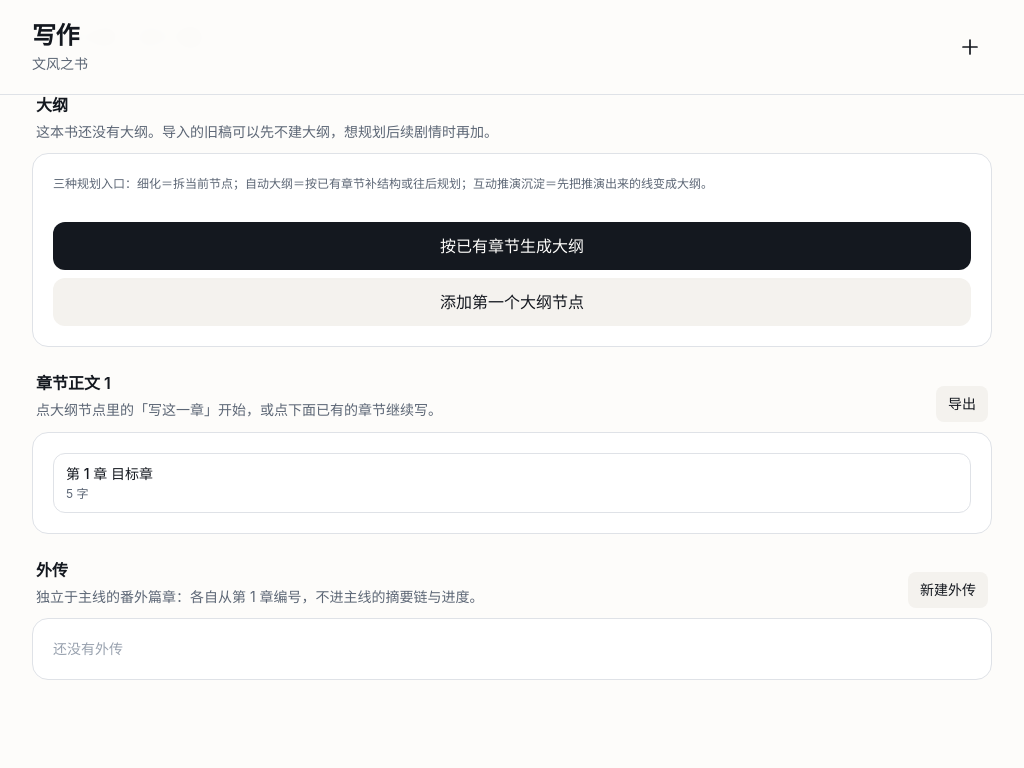
Test case: M4-S2 · 编辑器 UI › schema 失败显示 role=alert + 重试；重试成功后出结果
(page scrolled)
Click the button with aria-label "继续写第 1 章". click: (130, 473)
box: [53,452,971,512]
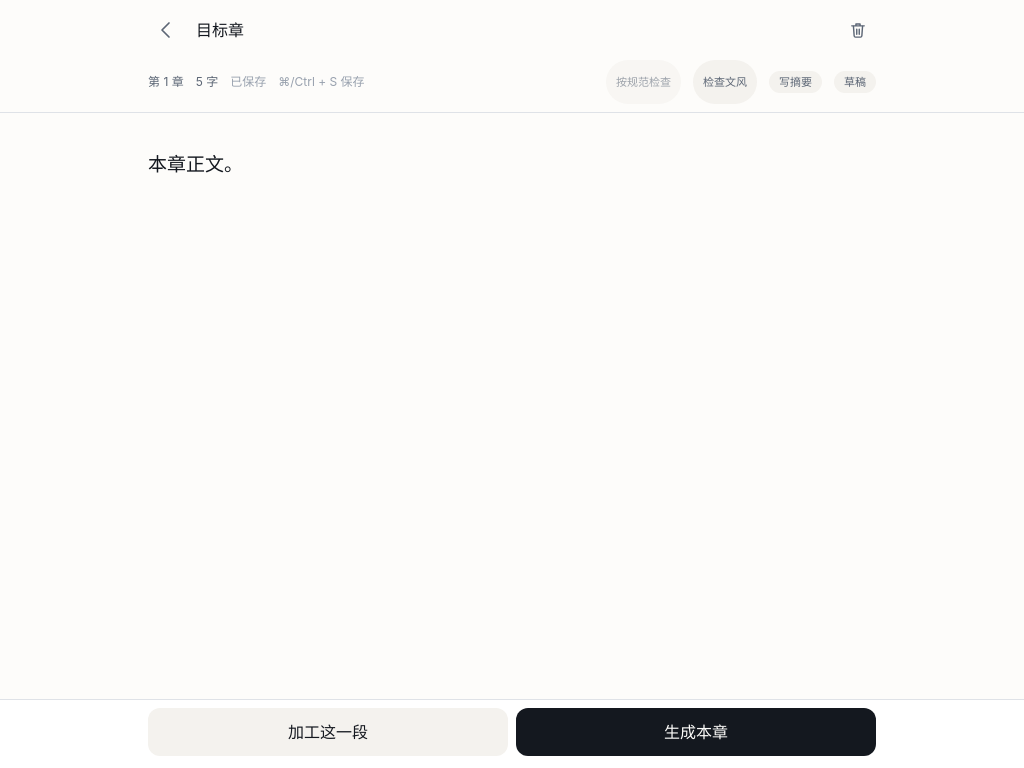
Result: the text box named "章节正文" is shown at [144,113,880,699]
Click the button "检查文风". click: (725, 82)
box: [693,60,757,104]
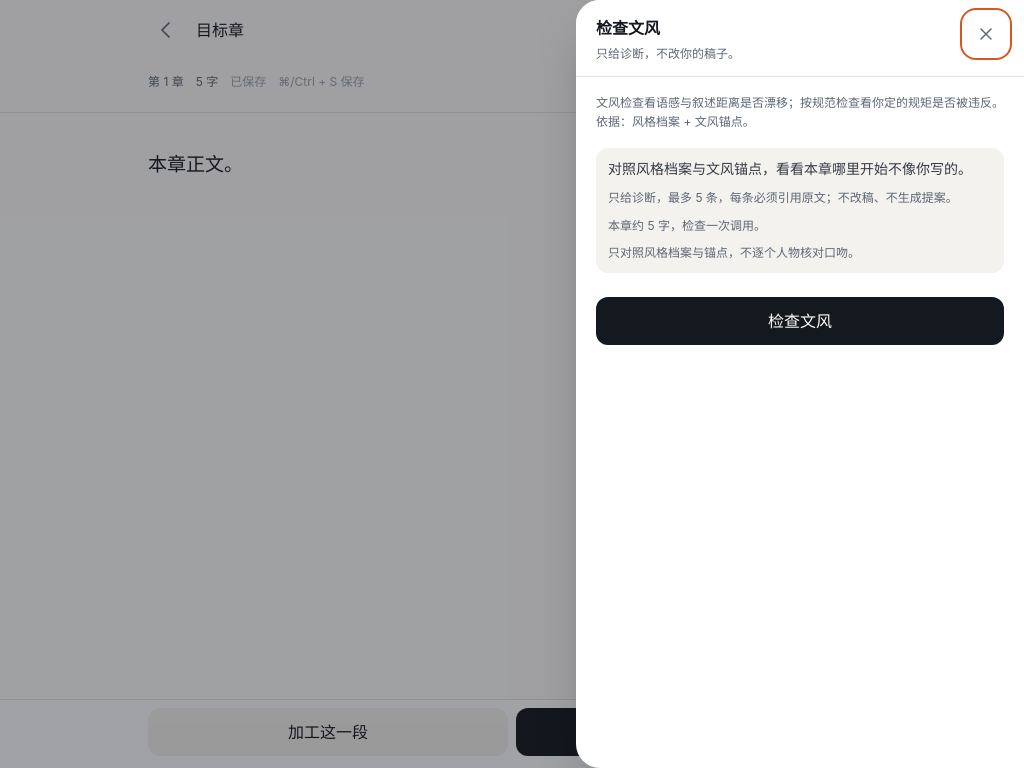
Click the button "检查文风". click: (800, 321)
box: [596,297,1004,345]
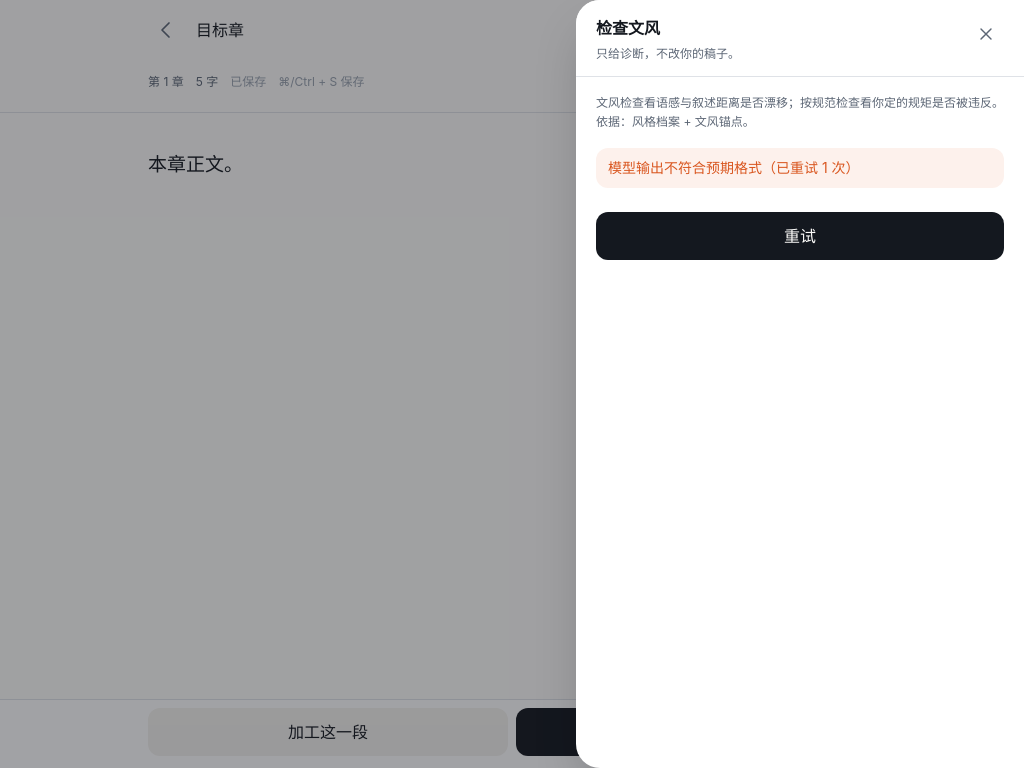
Result: the message "模型输出不符合预期格式（已重试 1 次）" is shown at [596,148,1004,188]
Result: the button "重试" is shown
Click the button "重试". click: (800, 236)
box: [596,212,1004,260]
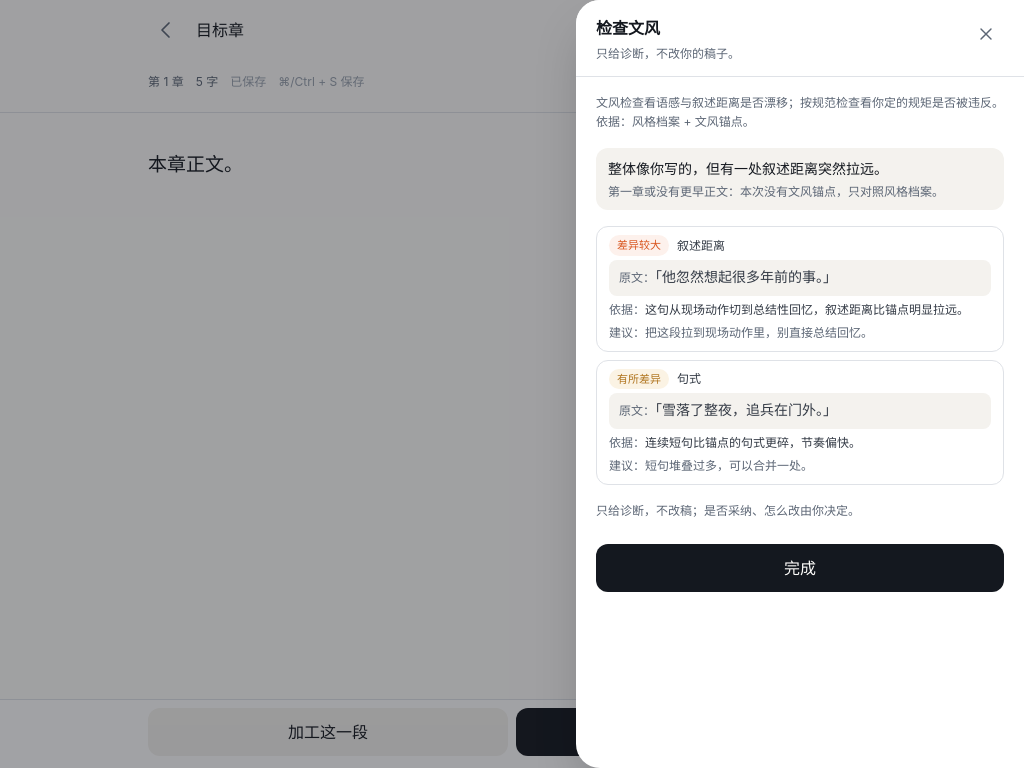
Result: the text "整体像你写的，但有一处叙述距离突然拉远。" is shown at [608,160,888,176]
